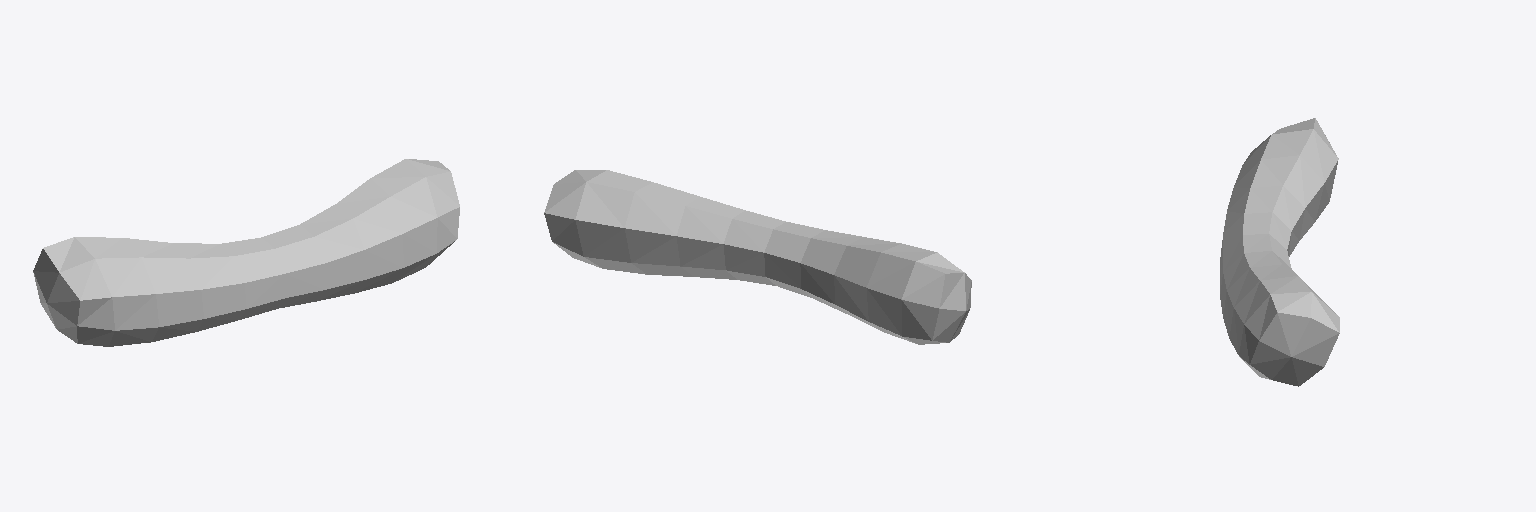
The model's file is Connective.Ligaments.Pubicum_inferius.obj.
The picture shows the model from 3 angles: view 1: azimuth 30°, elevation 25°; view 2: azimuth 150°, elevation 25°; view 3: azimuth 270°, elevation 25°; orthographic projection.
Parts seen in each view (by area): view 1: Connective:Ligaments:Pubicum_inferius_Ligaments.092; view 2: Connective:Ligaments:Pubicum_inferius_Ligaments.092; view 3: Connective:Ligaments:Pubicum_inferius_Ligaments.092.
Part boxes in pixels (x1,y1,x2,y2): Connective:Ligaments:Pubicum_inferius_Ligaments.092: (33, 159, 459, 346); Connective:Ligaments:Pubicum_inferius_Ligaments.092: (544, 170, 971, 344); Connective:Ligaments:Pubicum_inferius_Ligaments.092: (1220, 118, 1339, 386).
Size of the model in its own units: 0.1295 by 0.0285 by 0.033.